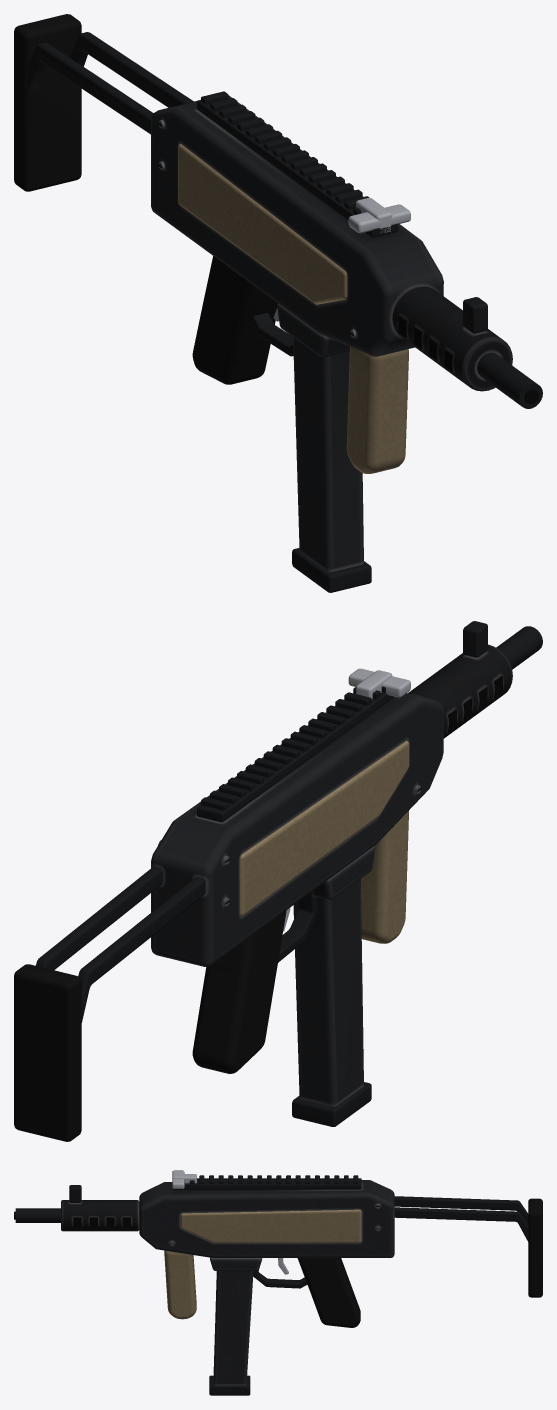
The model's file is BIJLI_SMG.fbx.
3 views of the same model, one above another, from view 1: azimuth 30°, elevation 25°; view 2: azimuth 150°, elevation 25°; view 3: azimuth 270°, elevation 25° (orthographic). The views are drawn at different scales.
Parts seen in each view (by area): view 1: BIJLI_SMG_LOD0, Mag_LOD0, Bolt_LOD0; view 2: BIJLI_SMG_LOD0, Mag_LOD0, Bolt_LOD0; view 3: BIJLI_SMG_LOD0, Mag_LOD0, Bolt_LOD0.
Part boxes in pixels (x1,y1,x2,y2): BIJLI_SMG_LOD0: (14, 14, 542, 473); Mag_LOD0: (292, 337, 371, 592); Bolt_LOD0: (348, 197, 410, 233); BIJLI_SMG_LOD0: (14, 621, 542, 1141); Mag_LOD0: (292, 878, 371, 1126); Bolt_LOD0: (348, 668, 410, 698); BIJLI_SMG_LOD0: (14, 1175, 542, 1327); Mag_LOD0: (209, 1271, 253, 1395); Bolt_LOD0: (172, 1170, 196, 1188).
Size of what is drawn, in the model's own units: 0.0514 by 0.288 by 0.642.
